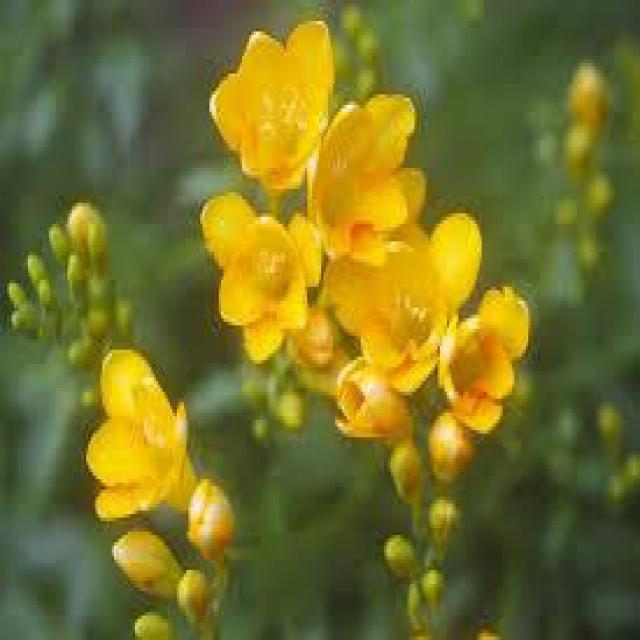freesia: (73, 345, 214, 542), (182, 190, 331, 372), (294, 95, 443, 275), (332, 224, 456, 398), (195, 23, 335, 176)
